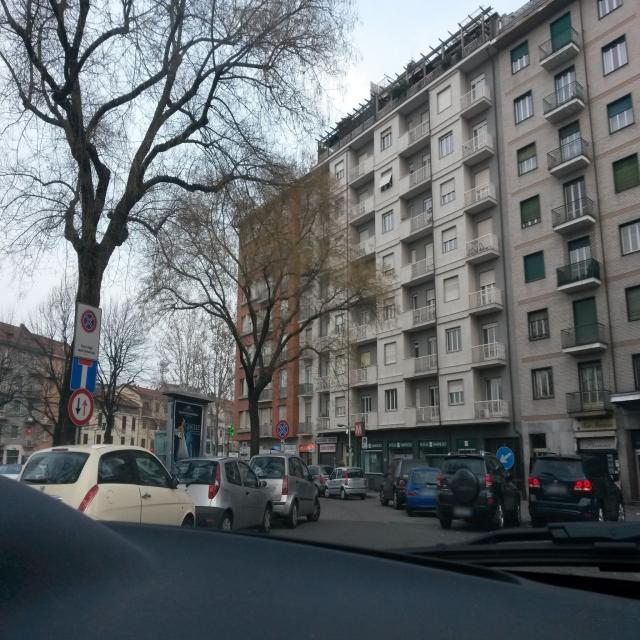car: (17, 443, 197, 532), (172, 455, 274, 534), (527, 450, 626, 526), (435, 449, 522, 531), (248, 453, 321, 528), (379, 456, 429, 509), (404, 466, 442, 516), (324, 466, 368, 500), (307, 464, 333, 494), (0, 462, 24, 480)
